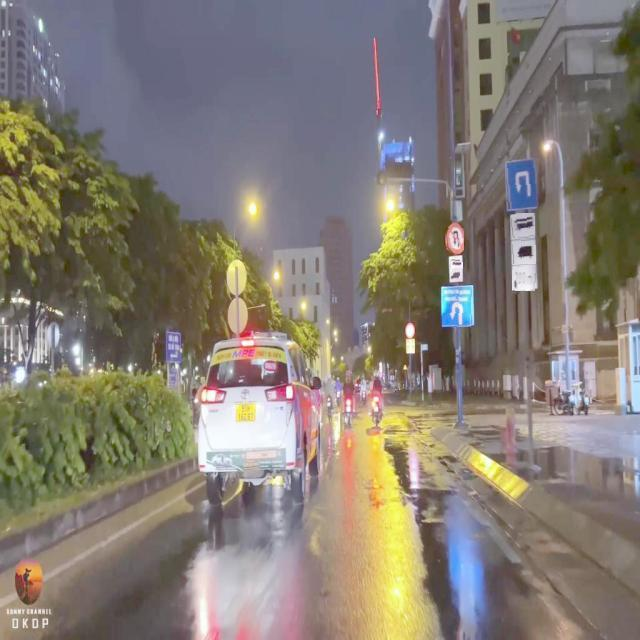124a-cam-quay-dau-xe: (446, 224, 465, 254)
